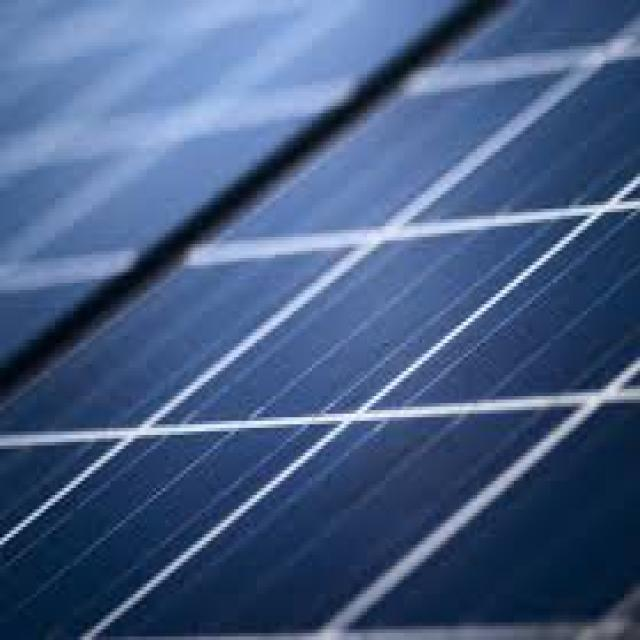clean-solar-panel: (1, 3, 640, 636)
